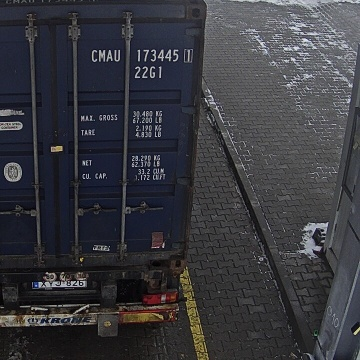serial_id: (92, 49, 191, 62)
